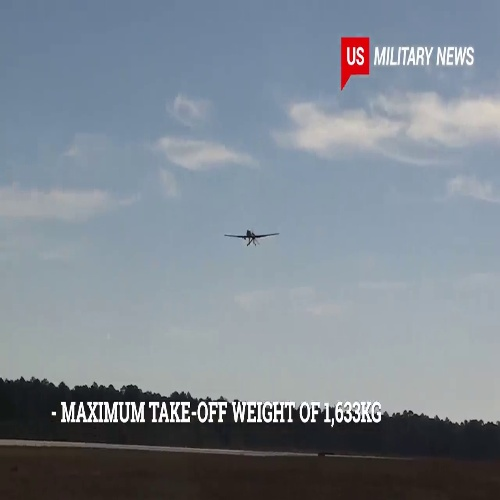uav473: (222, 227, 281, 249)
